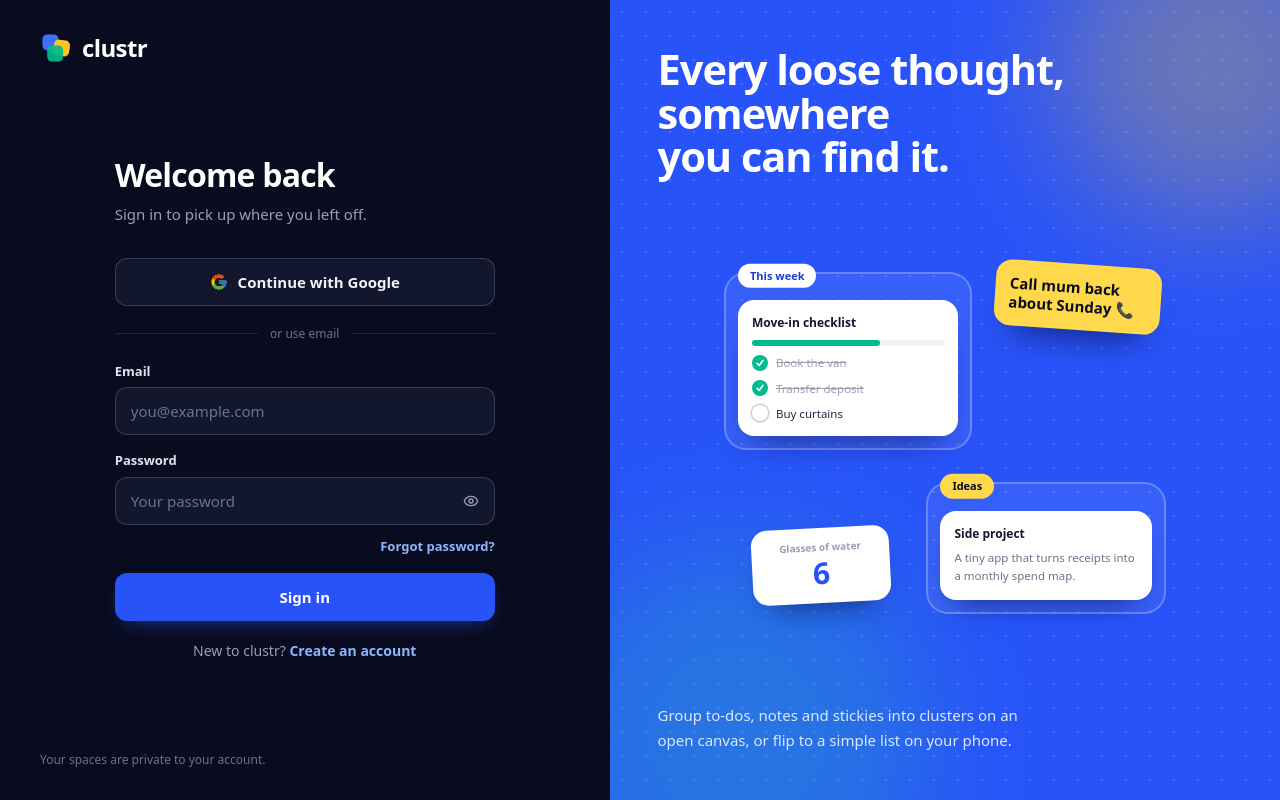
Test: sign-in guard › opens the workspace after a successful sign-in
In the field labelled "Email": (305, 411) [115,387,495,435], type "me@example.test"
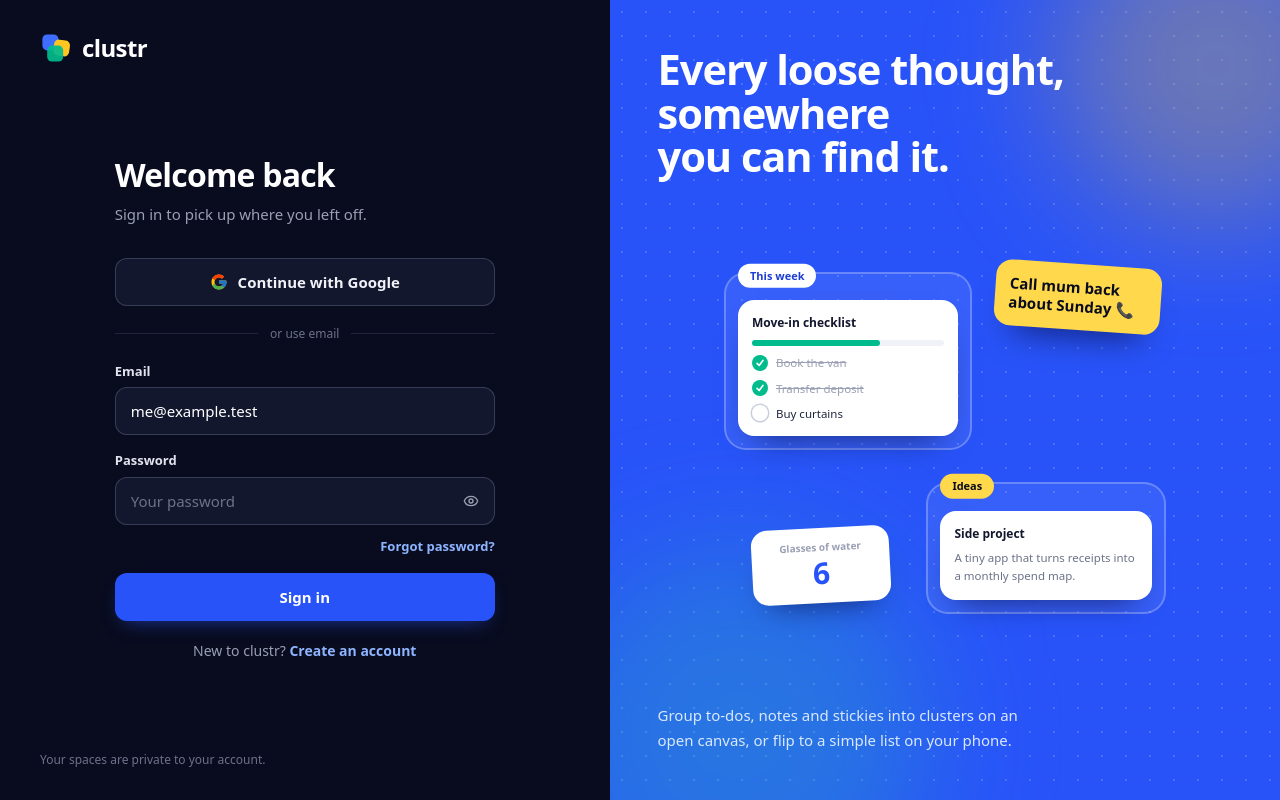
In the password field labelled "Password": (305, 501) [115,477,495,525], type "right"
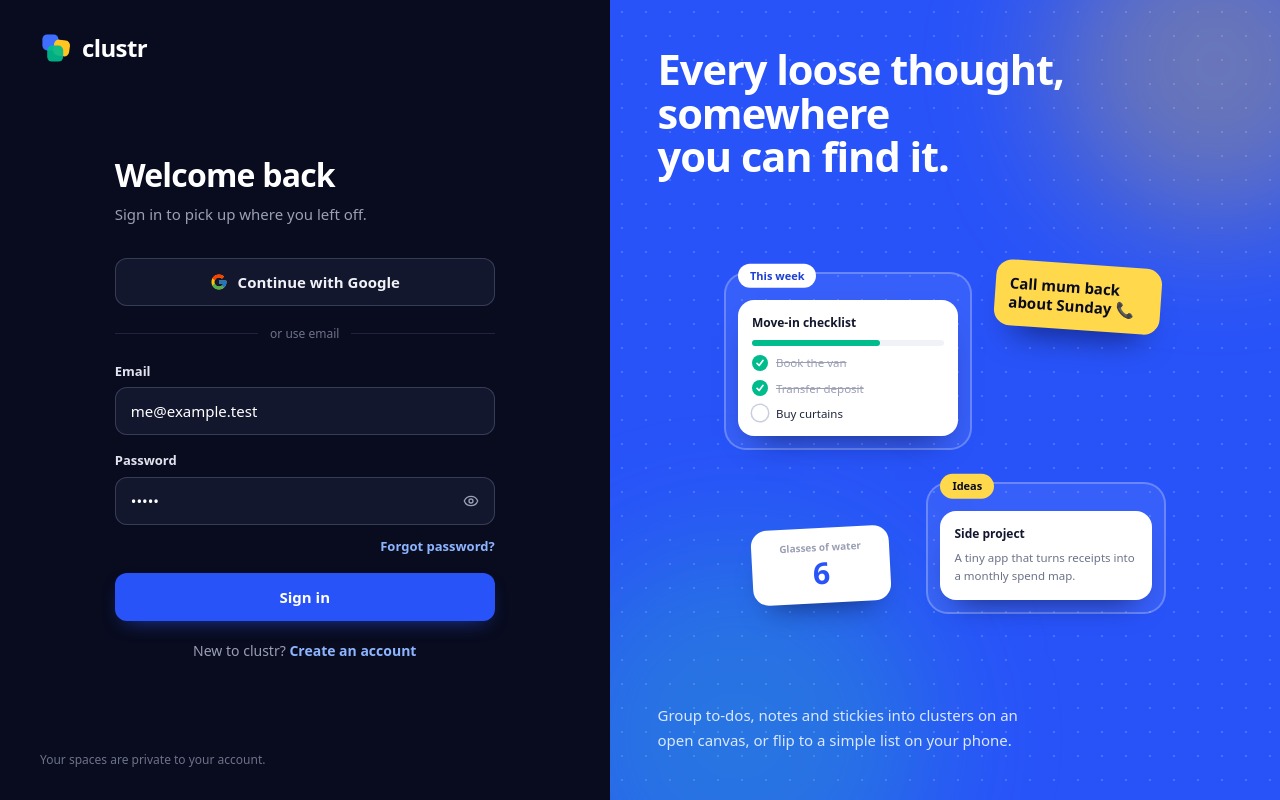
Click the button "Sign in": (305, 597) [115,573,495,621]
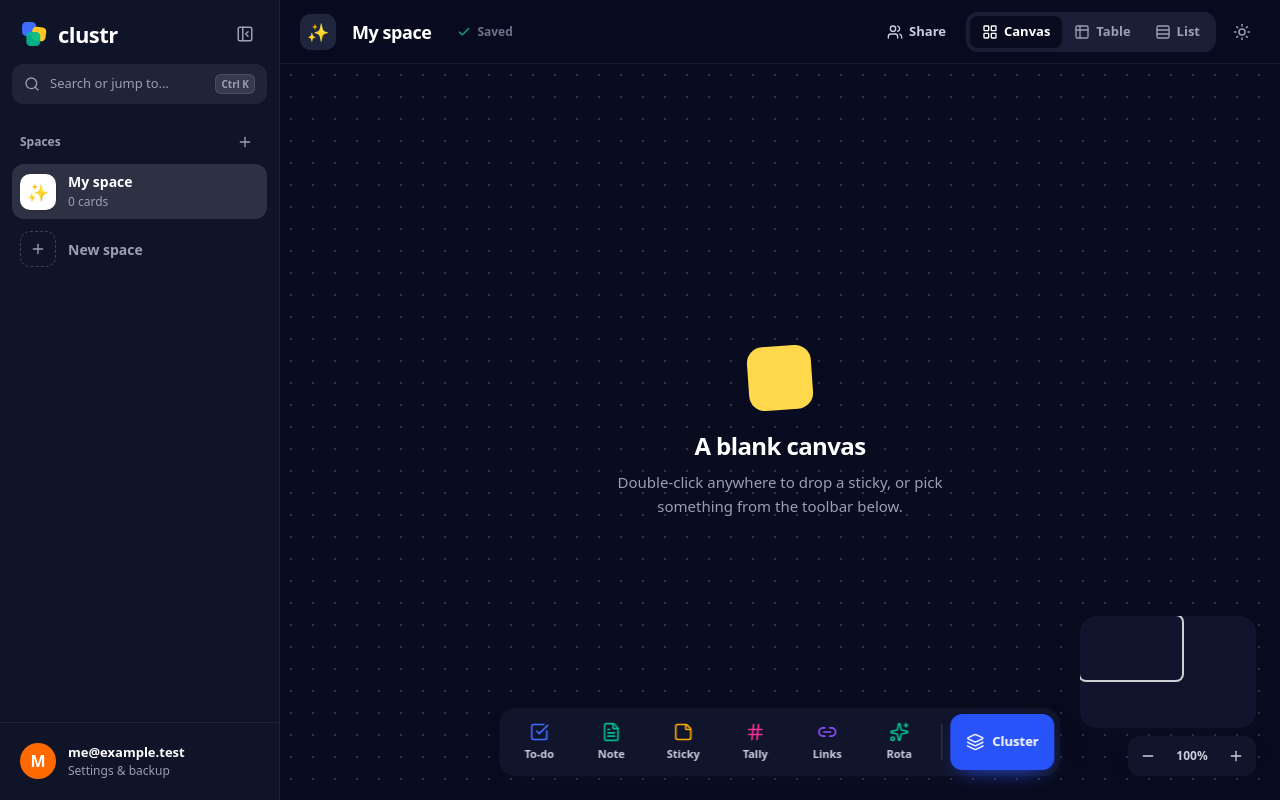
Expected: the text "me@example.test" is shown, [68,742,185,760]
Expected: the field labelled "email" is gone
